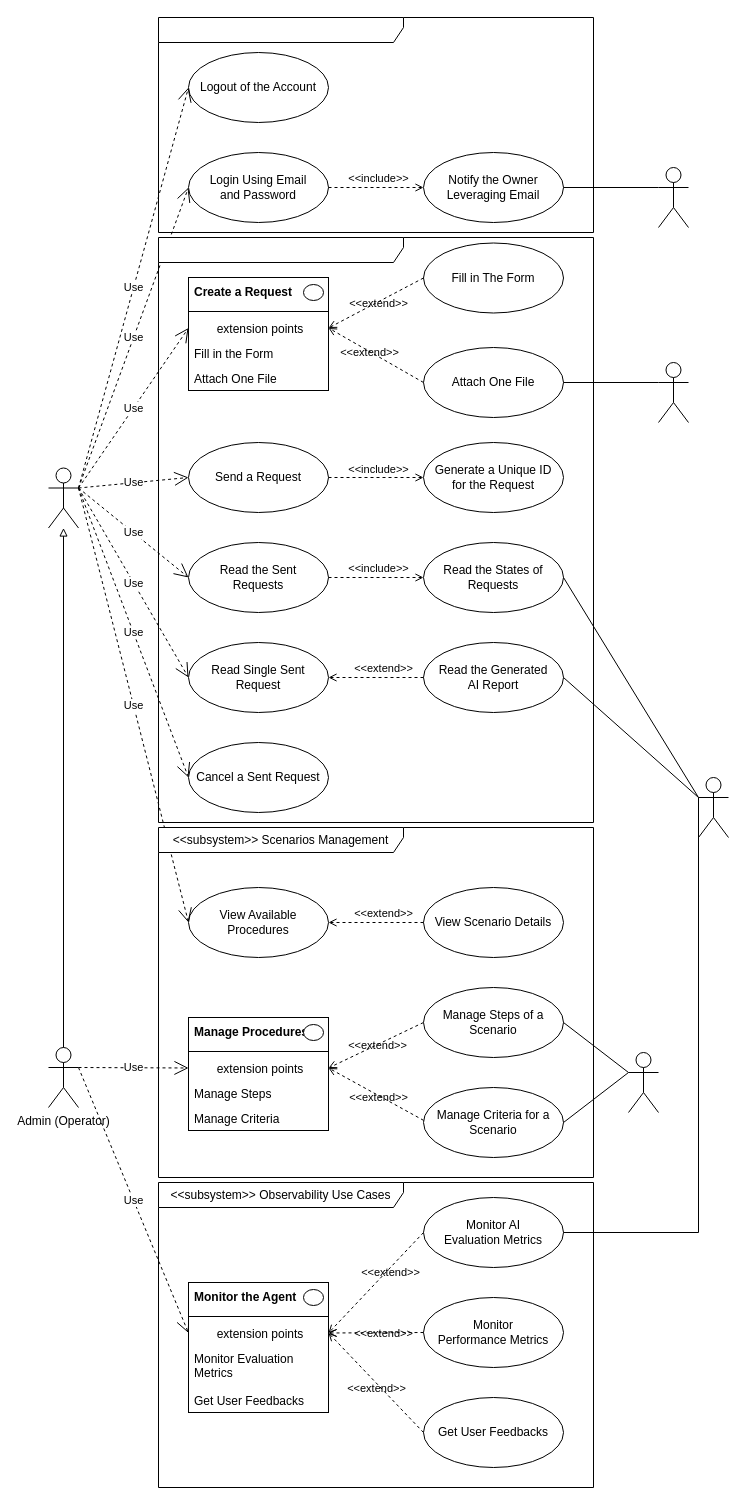
This 753x1505 diagram has some shape labels left out. Here are the shapes that lost their labels. From the top down, the centre of each, then its label:
At point 376,124: "<<subsystem>> Autorization System".
At point 673,197: "Email Service".
At point 673,392: "Object Storage".
At point 63,497: "Base (Authorized) User".
At point 376,529: "<<subsystem>> Request Management".
At point 713,807: "AI Agent".
At point 643,1082: "Bureacratic Knowledge Base".
